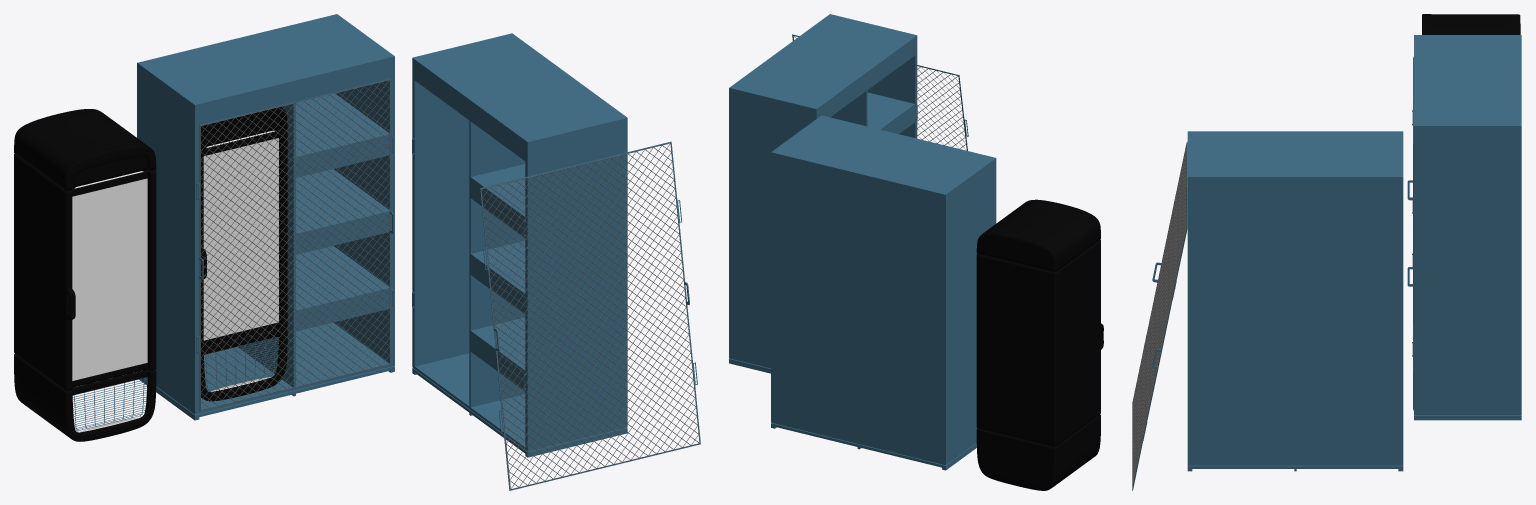
The model's file is uploads_files_4094862_Fridge_and_Cage.fbx.glb.
3 views of the same model, side by side, from view 1: azimuth 30°, elevation 25°; view 2: azimuth 150°, elevation 25°; view 3: azimuth 270°, elevation 25° (orthographic). The views are drawn at different scales.
Visible parts, largest first — view 1: Cage_2, Cage_1, Fridge_2, Fridge_1, Mesh_2, Mesh_1, Mesh_2Border, Fridge_2Mesh, Mesh_1Border, Fridge_1Mesh; view 2: Cage_1, Fridge_2, Cage_2, Mesh_2; view 3: Cage_2, Cage_1, Mesh_2, Fridge_2, Mesh_2Border.
Boxes of the visible parts, bbox=[...] form: Cage_2: bbox=[412, 33, 627, 457]; Cage_1: bbox=[137, 14, 394, 420]; Fridge_2: bbox=[14, 109, 156, 441]; Fridge_1: bbox=[201, 107, 287, 401]; Mesh_2: bbox=[481, 143, 699, 489]; Mesh_1: bbox=[200, 79, 389, 410]; Mesh_2Border: bbox=[480, 141, 700, 490]; Fridge_2Mesh: bbox=[72, 377, 147, 432]; Mesh_1Border: bbox=[196, 78, 393, 411]; Fridge_1Mesh: bbox=[204, 337, 278, 391]; Cage_1: bbox=[771, 115, 996, 470]; Fridge_2: bbox=[976, 199, 1103, 490]; Cage_2: bbox=[729, 14, 917, 373]; Mesh_2: bbox=[793, 36, 965, 149]; Cage_2: bbox=[1187, 131, 1403, 471]; Cage_1: bbox=[1414, 35, 1521, 420]; Mesh_2: bbox=[1132, 143, 1186, 489]; Fridge_2: bbox=[1422, 14, 1520, 34]; Mesh_2Border: bbox=[1132, 141, 1187, 490].
Bounding box in the file's own units: 362 × 226 × 271.
